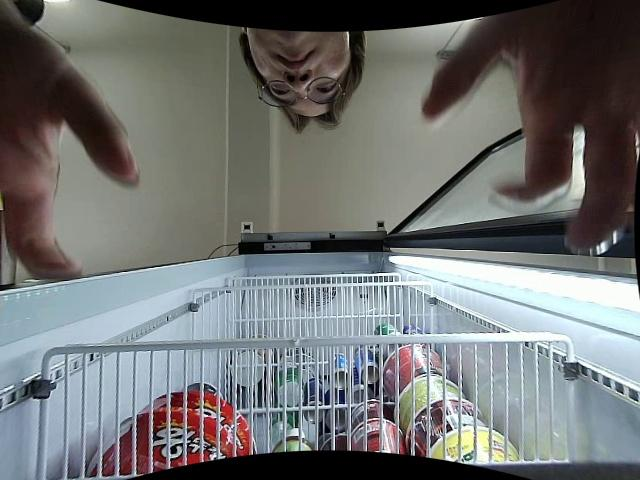00_hand: (420, 0, 640, 257), (0, 4, 139, 281)
